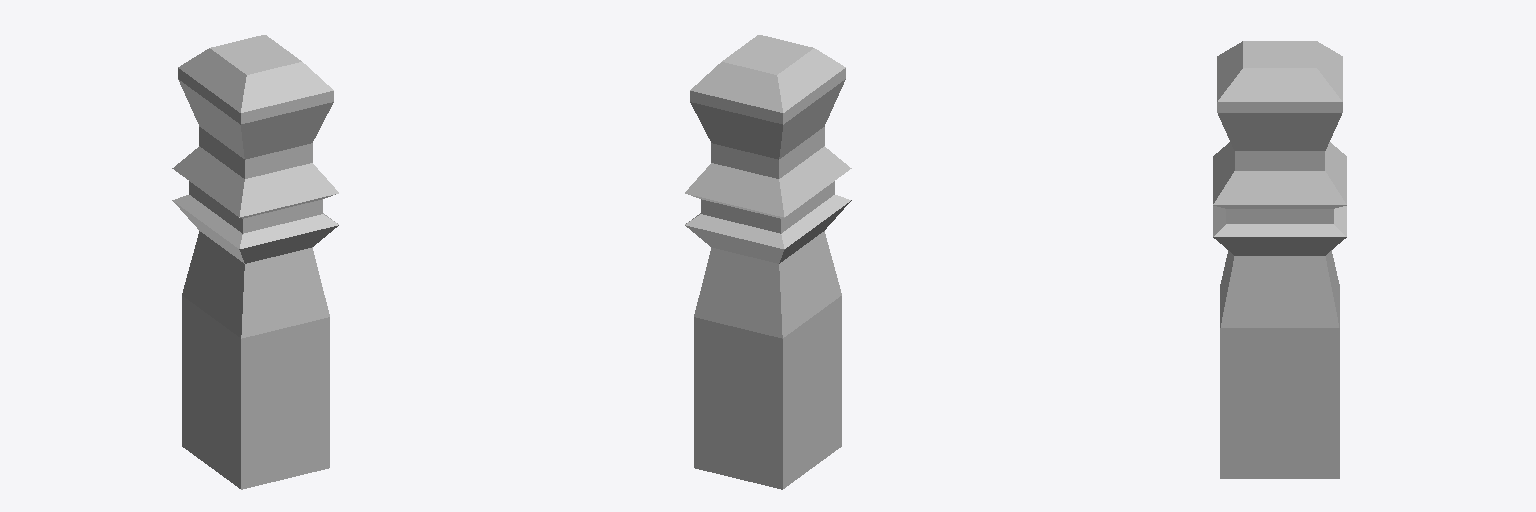
Rendered from Building1.obj.
The picture shows the model from 3 angles: view 1: azimuth 30°, elevation 25°; view 2: azimuth 150°, elevation 25°; view 3: azimuth 270°, elevation 25°; orthographic projection.
Visible parts, largest first — view 1: Building1; view 2: Building1; view 3: Building1.
Part boxes in pixels (left/top/right/bottom): Building1: left=172, top=35, right=338, bottom=489; Building1: left=685, top=35, right=851, bottom=489; Building1: left=1213, top=41, right=1346, bottom=478.
Size of the model in its own units: 7.08 by 27.15 by 8.21.